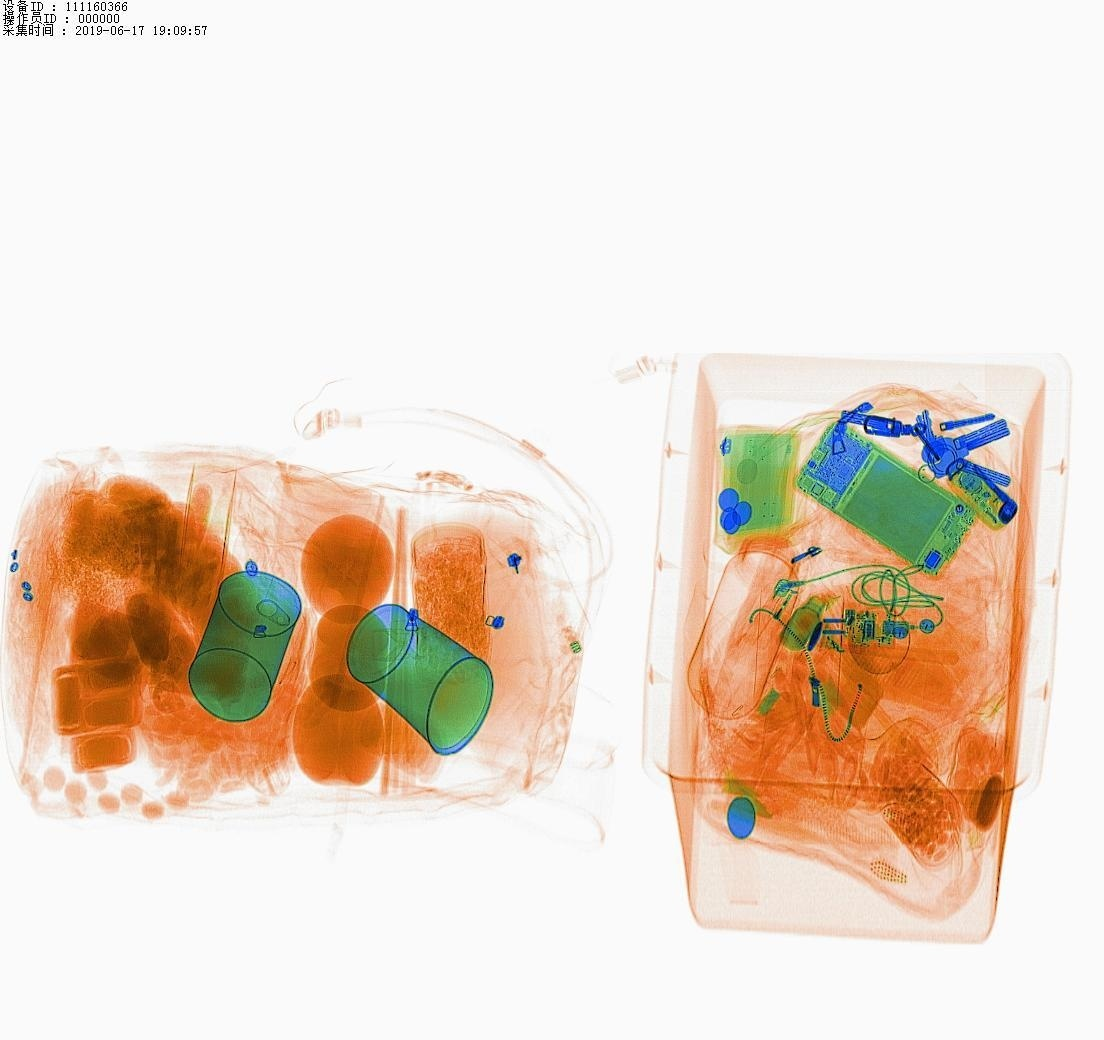NonmetallicFire: (739, 554, 803, 651)
